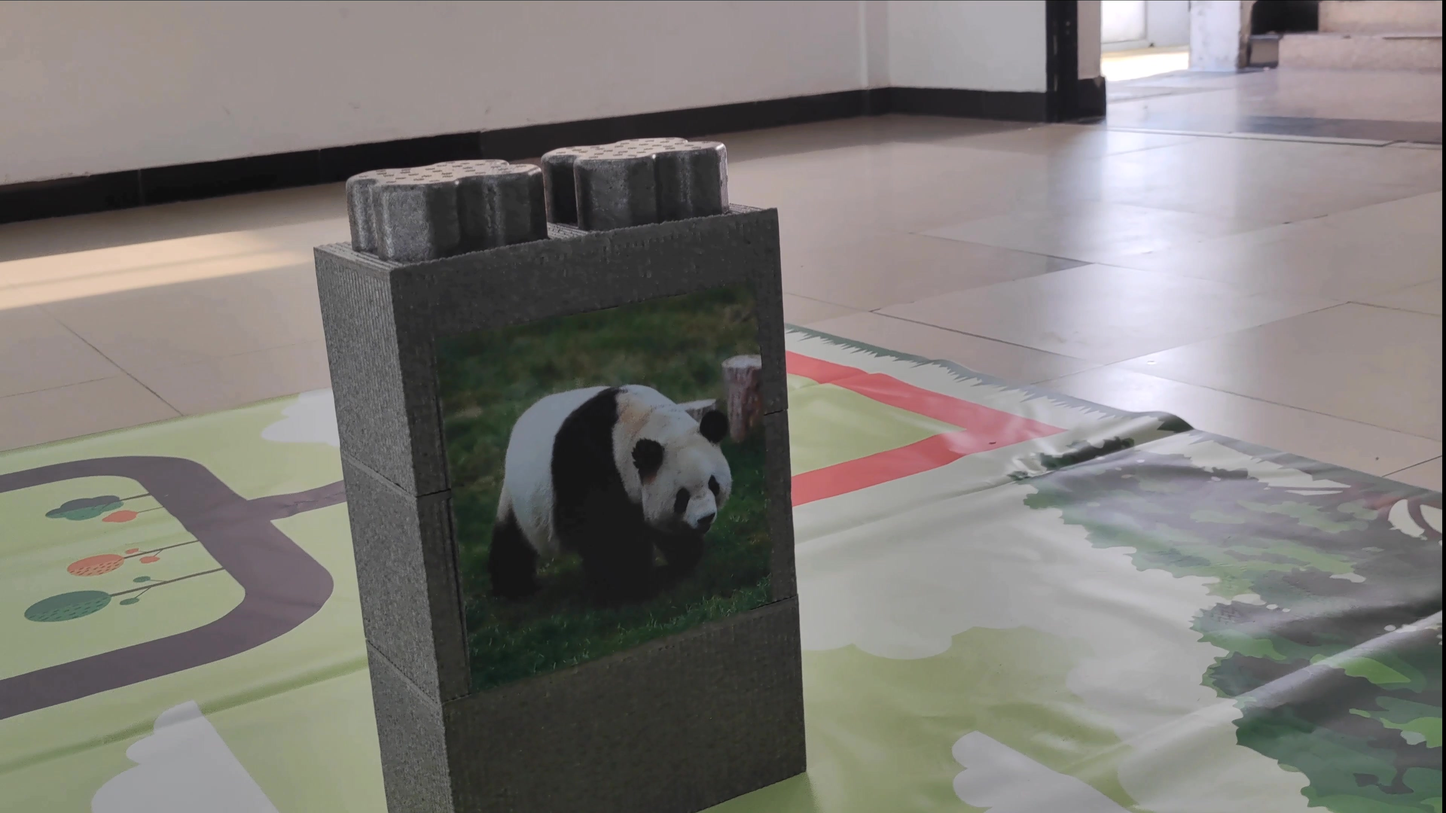panda: (472, 365, 766, 617)
